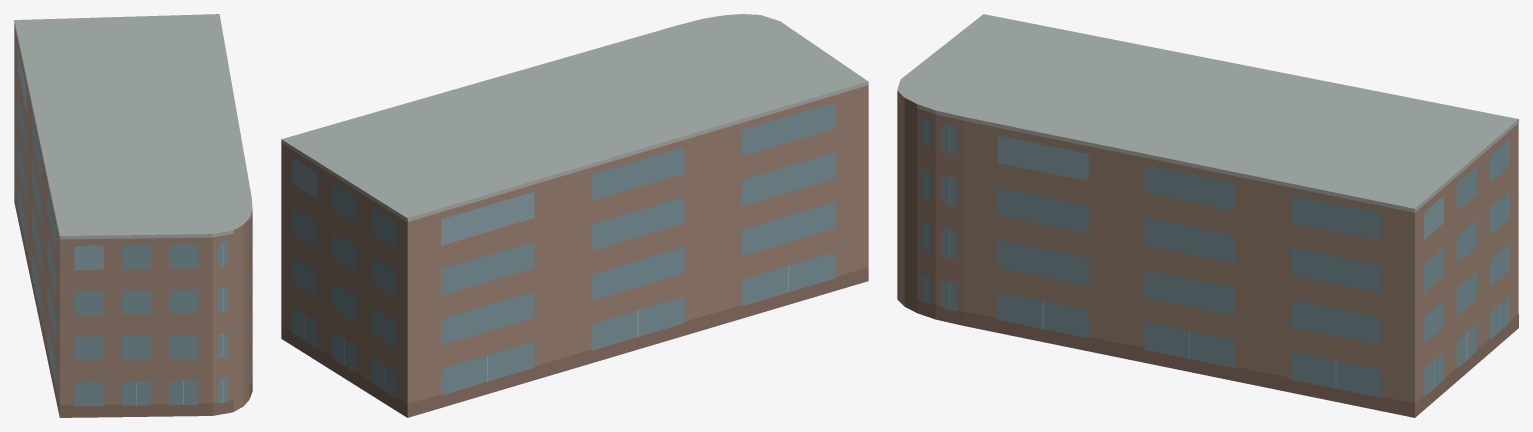
Rendered from survey-upis-32893106.glb.
The picture shows the model from 3 angles, left to right: view 1: azimuth 30°, elevation 25°; view 2: azimuth 150°, elevation 25°; view 3: azimuth 270°, elevation 25°; orthographic projection. The views are drawn at different scales.
Parts seen in each view (by area): view 1: survey-upis-32893106.tmp; view 2: survey-upis-32893106.tmp; view 3: survey-upis-32893106.tmp.
Boxes of the visible parts, x1=… form: survey-upis-32893106.tmp: x1=14, y1=14, x2=252, y2=417; survey-upis-32893106.tmp: x1=281, y1=14, x2=868, y2=417; survey-upis-32893106.tmp: x1=897, y1=14, x2=1518, y2=417.
Bounding box in the file's own units: 26 × 13 × 35.04.
